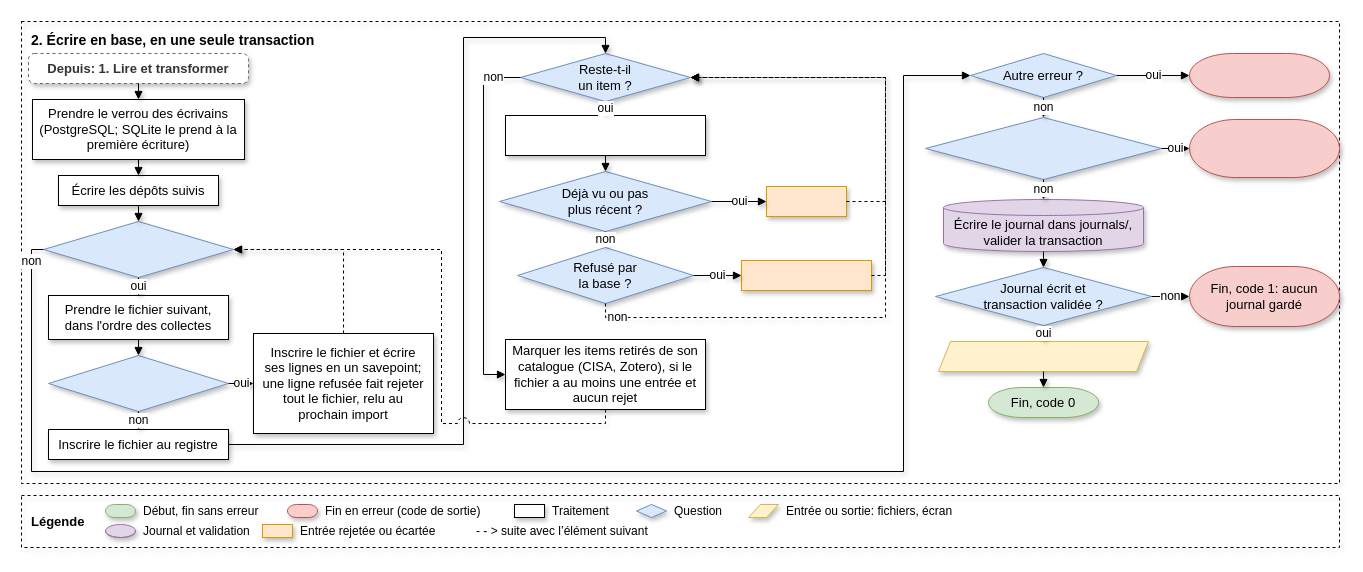
Some shapes in this 1363 by 572 pixel diagram are drawn without their labels. Here are the shapes that lost their labels. From the top down, the centre of each, then its label:
At pixel 1260 76: "Fin, code 1: rien en base".
At pixel 606 136: "Écrire l'item suivant dans son savepoint".
At pixel 1044 149: "Journal de cette seconde déjà là ?".
At pixel 1265 149: "Fin, code 2: rien en base, relancer kb import".
At pixel 807 203: "Écarté".
At pixel 139 250: "Reste-t-il un fichier ?".
At pixel 807 277: "Annulé seul: rejet".
At pixel 1044 357: "Afficher le bilan sur une ligne".
At pixel 139 384: "Fichier de tendances ?".
